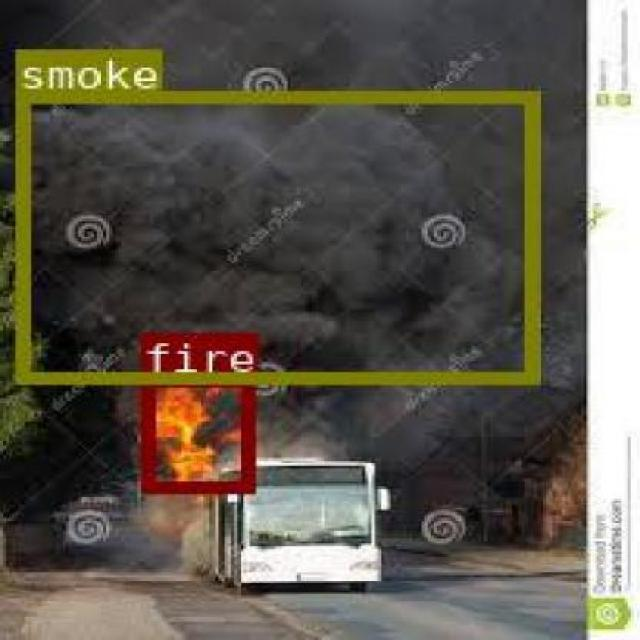fire: (138, 373, 252, 490)
smoke: (14, 89, 534, 382)
